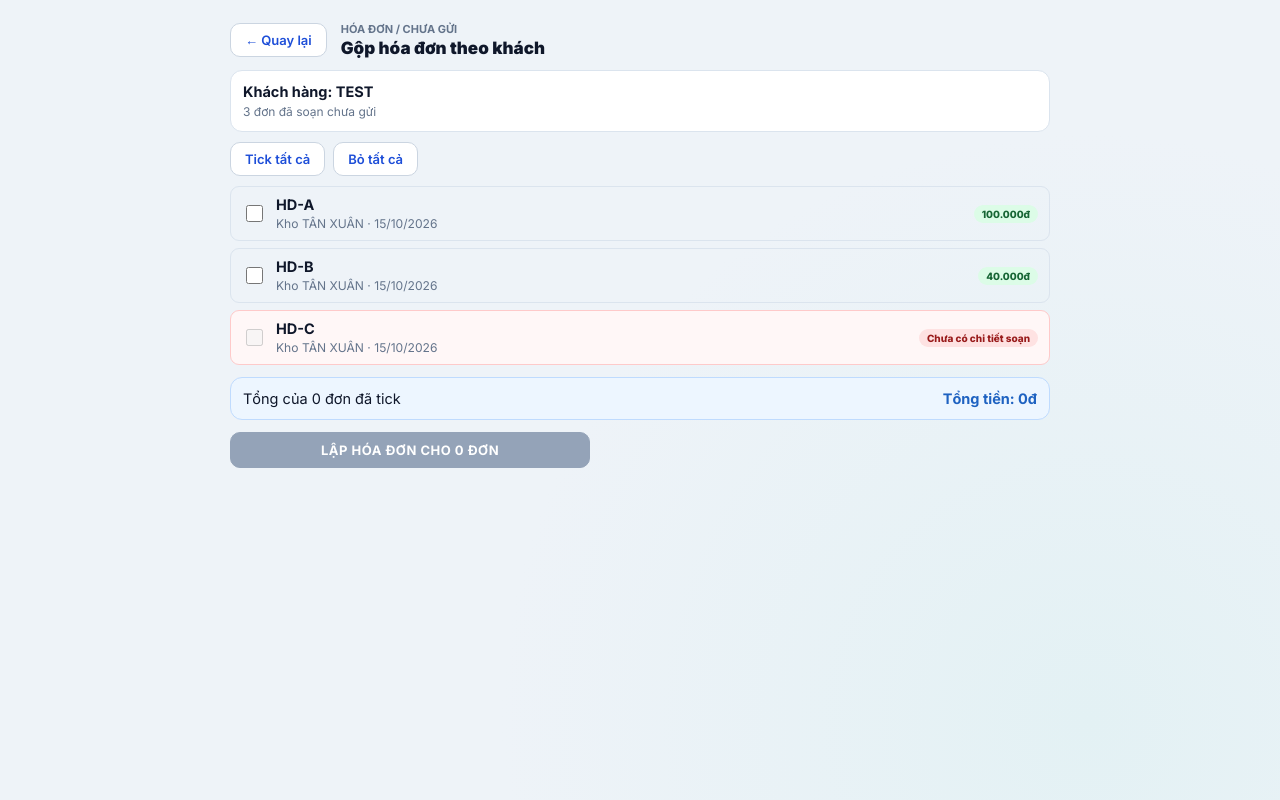
Test: invoice split flow › ticks orders, shows totals, and creates a draft that navigates to the detail page
The image size is (1280, 800).
Expected: the number of labels with class "invoice-order-option" is 3, x1=230 y1=186 x2=1050 y2=241; x1=230 y1=248 x2=1050 y2=303; x1=230 y1=310 x2=1050 y2=365
Step 1. Click the button with class "btn-outline" showing "Tick tất cả" → (278,159), box x1=230 y1=142 x2=325 y2=176
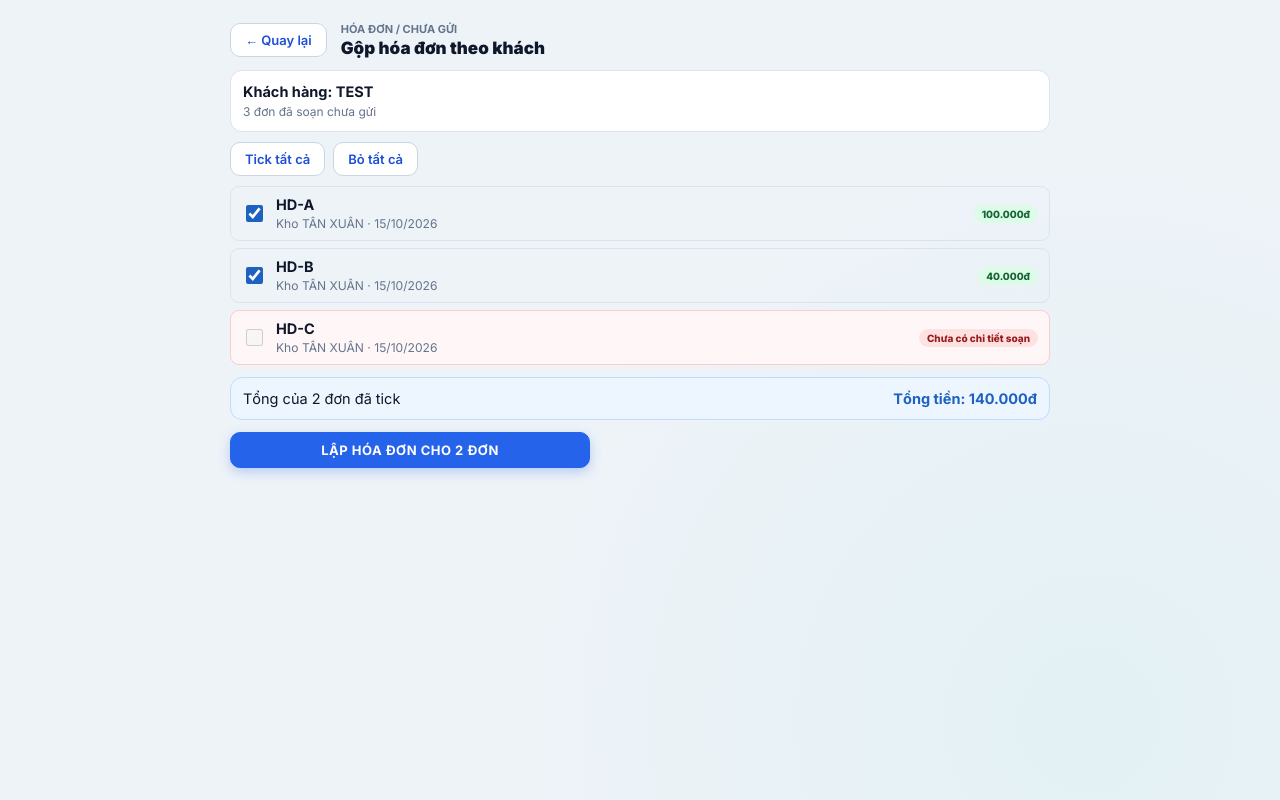
Now the element with class "invoice-group-summary" shows "2 đơn đã tick", box x1=230 y1=377 x2=1050 y2=420
Now the element with class "invoice-group-summary" shows "140.000", box x1=969 y1=390 x2=1037 y2=407
Step 2. Click the button with class "invoice-group-submit" → (410,450), box x1=230 y1=432 x2=590 y2=468
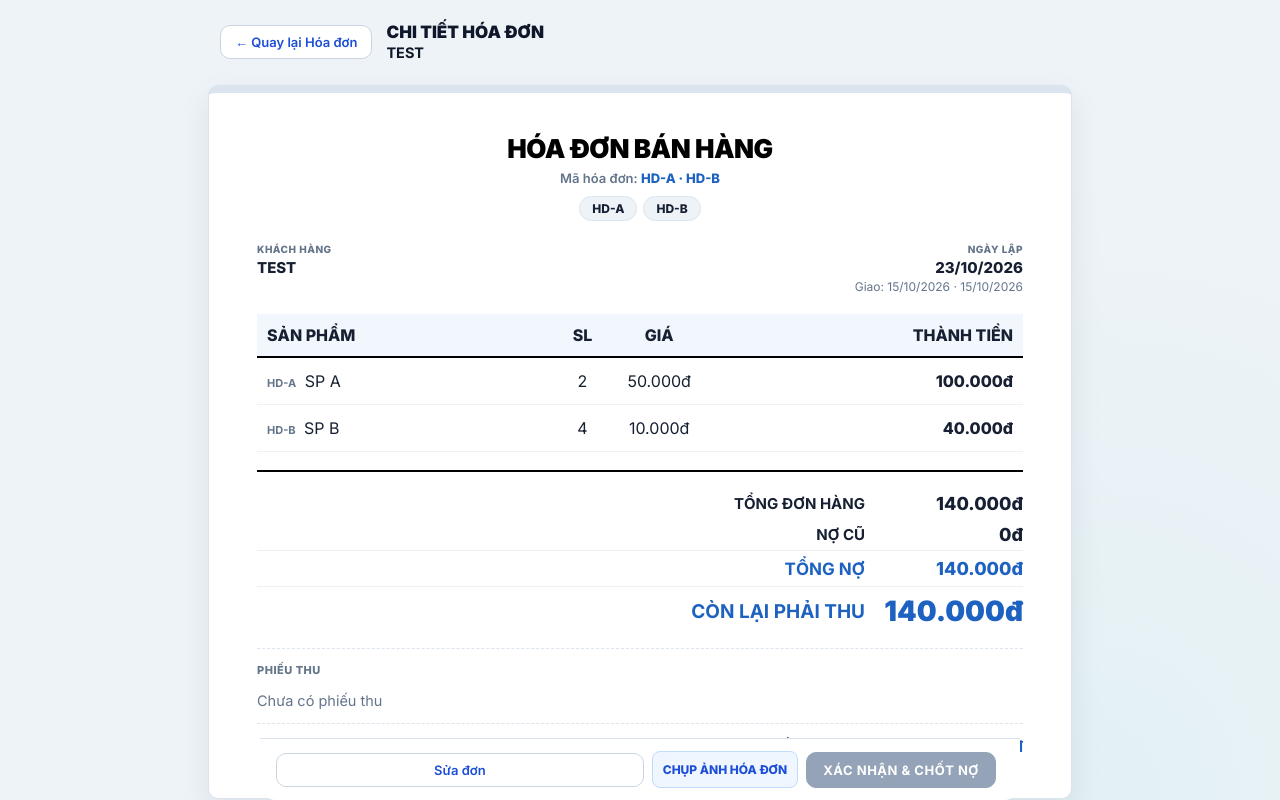
Now the table with class "bill-table" is shown, box x1=257 y1=314 x2=1023 y2=452
